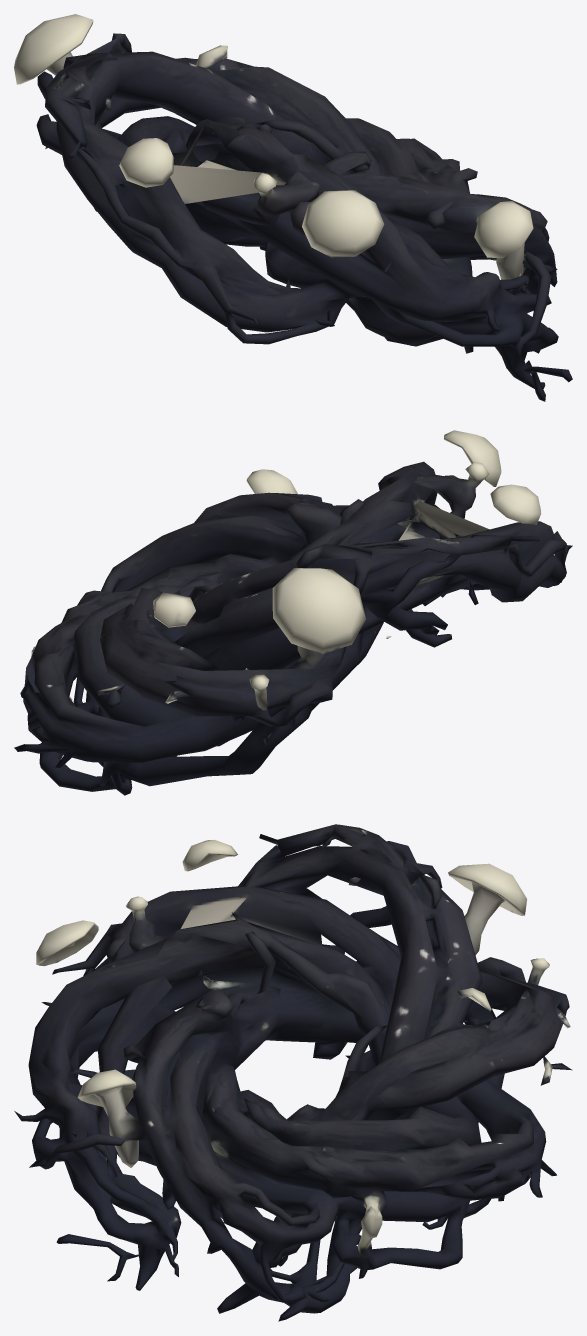
The picture shows the model from 3 angles, top to bottom: view 1: azimuth 30°, elevation 25°; view 2: azimuth 150°, elevation 25°; view 3: azimuth 270°, elevation 25°; orthographic projection. The views are drawn at different scales.
Parts seen in each view (by area): view 1: tripo_node_cefd7ad3-225d-432f-8c0a-341b69909471; view 2: tripo_node_cefd7ad3-225d-432f-8c0a-341b69909471; view 3: tripo_node_cefd7ad3-225d-432f-8c0a-341b69909471.
Part boxes in pixels (box(x1,y1,x2,y2)): tripo_node_cefd7ad3-225d-432f-8c0a-341b69909471: box(14, 14, 572, 401); tripo_node_cefd7ad3-225d-432f-8c0a-341b69909471: box(14, 430, 572, 795); tripo_node_cefd7ad3-225d-432f-8c0a-341b69909471: box(14, 824, 572, 1321).
Size of the model in its own units: 0.8943 by 0.6125 by 0.9804.
1 material, 1 textured.
